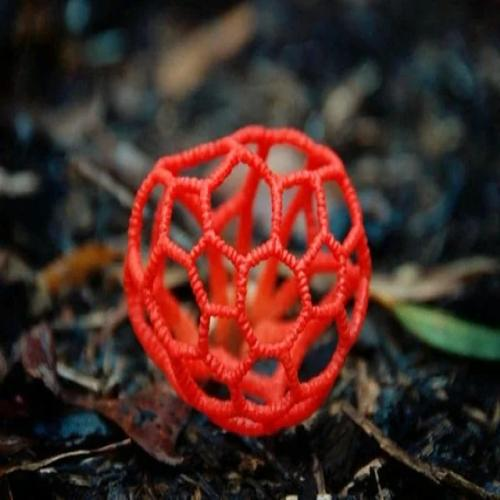Red Cage Fungus: (101, 110, 395, 453)
